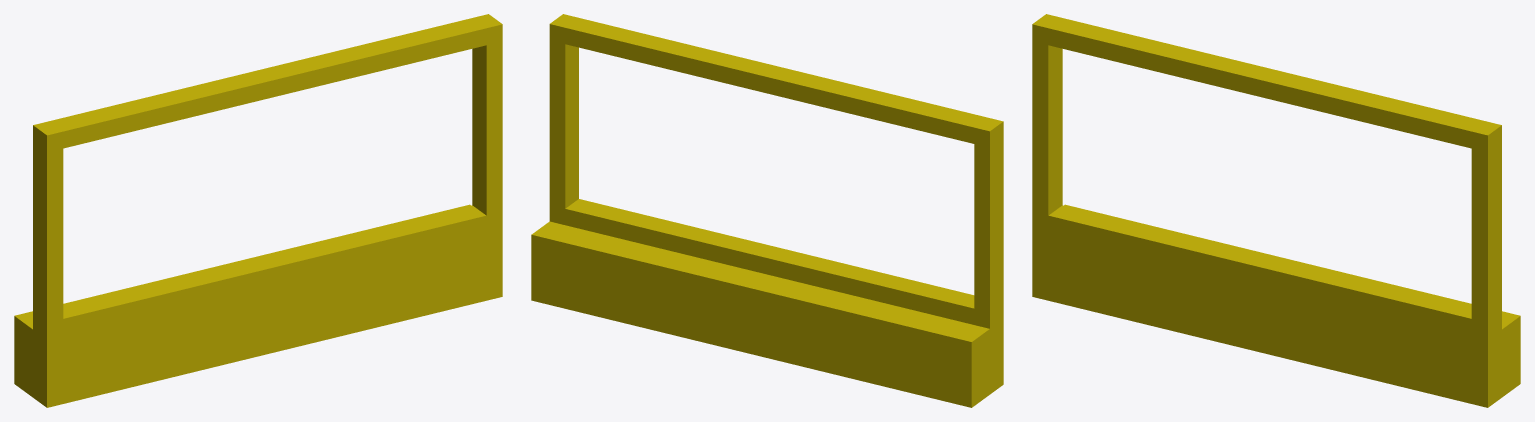
The model's file is door_manual_flush_7x3.dae.
3 renders of one model, left to right at view 1: azimuth 30°, elevation 25°; view 2: azimuth 150°, elevation 25°; view 3: azimuth 330°, elevation 25°, orthographic. The views are drawn at different scales.
Parts seen in each view (by area): view 1: Cube; view 2: Cube; view 3: Cube.
Part boxes in pixels (x1,y1,x2,y2): Cube: [14, 14, 502, 407]; Cube: [531, 14, 1003, 407]; Cube: [1032, 14, 1520, 407].
Size of the model in its own units: 1.75 by 0.2188 by 1.
